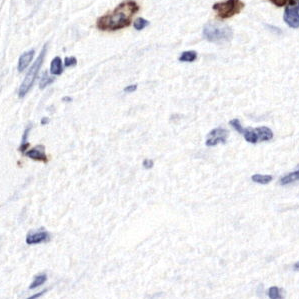Lymphocyte: (108, 11, 131, 29)
